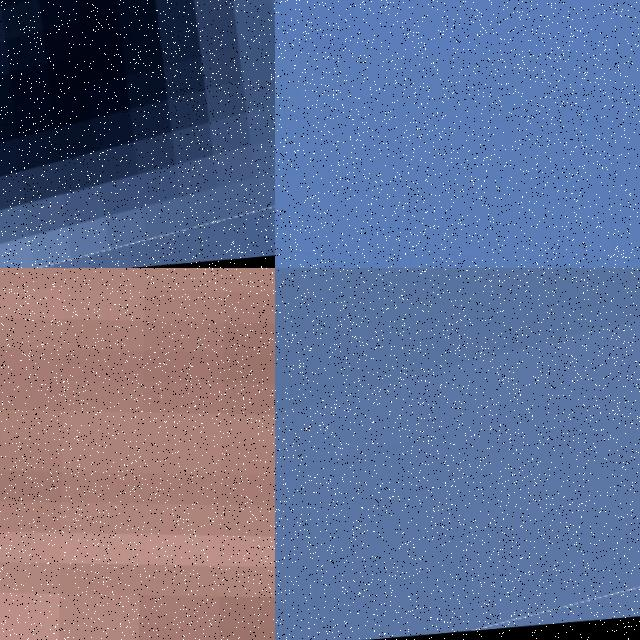drone: (275, 268, 640, 640), (0, 0, 275, 268)
